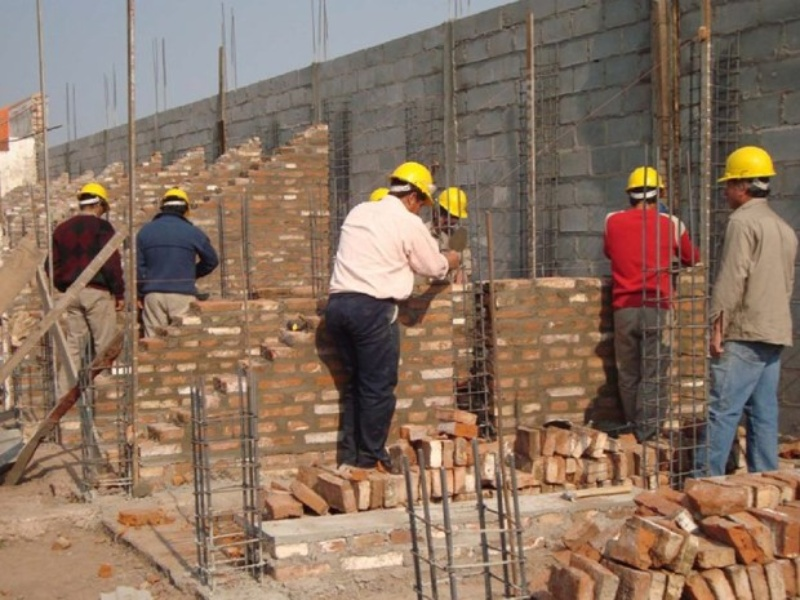casco: (387, 158, 440, 211), (715, 144, 777, 189), (623, 164, 667, 196), (158, 185, 193, 220), (435, 185, 469, 221), (76, 180, 112, 212)
